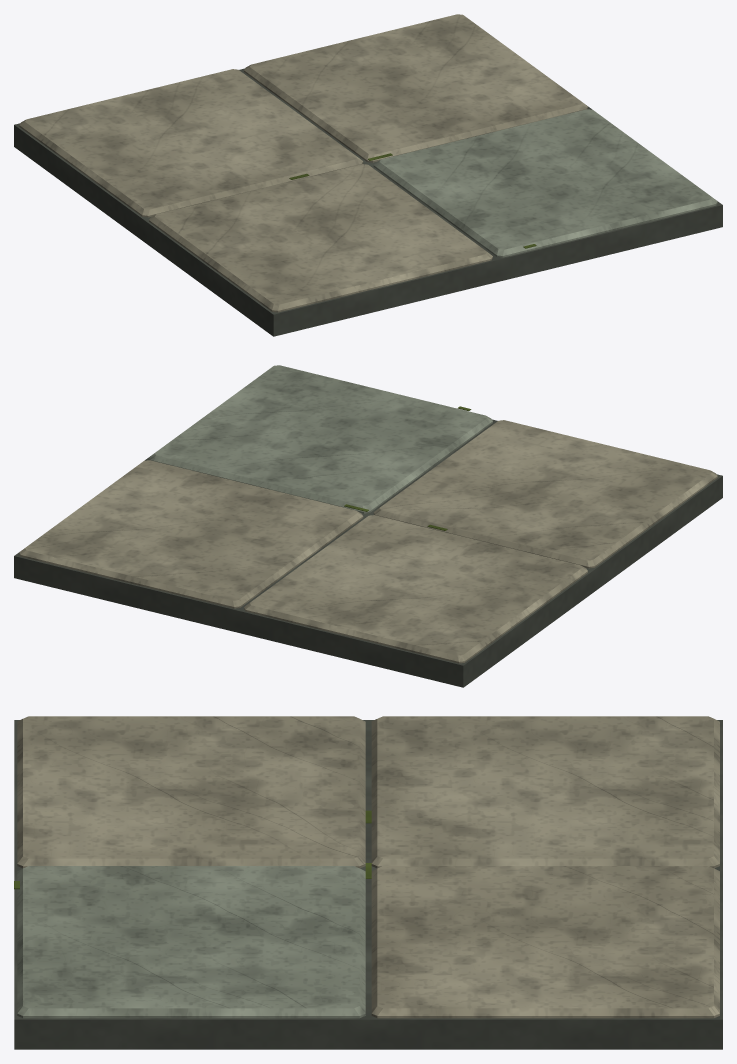
Rendered from b01_floor_a.fbx.
The picture shows the model from 3 angles, top to bottom: view 1: azimuth 30°, elevation 25°; view 2: azimuth 150°, elevation 25°; view 3: azimuth 270°, elevation 25°; orthographic projection. The views are drawn at different scales.
Parts seen in each view (by area): view 1: b01_floor_a; view 2: b01_floor_a; view 3: b01_floor_a.
Part boxes in pixels (left/top/right/bottom): b01_floor_a: left=14, top=14, right=722, bottom=336; b01_floor_a: left=14, top=365, right=722, bottom=687; b01_floor_a: left=14, top=716, right=722, bottom=1049.
Bounding box in the file's own units: 25600 × 25610 × 1500.
